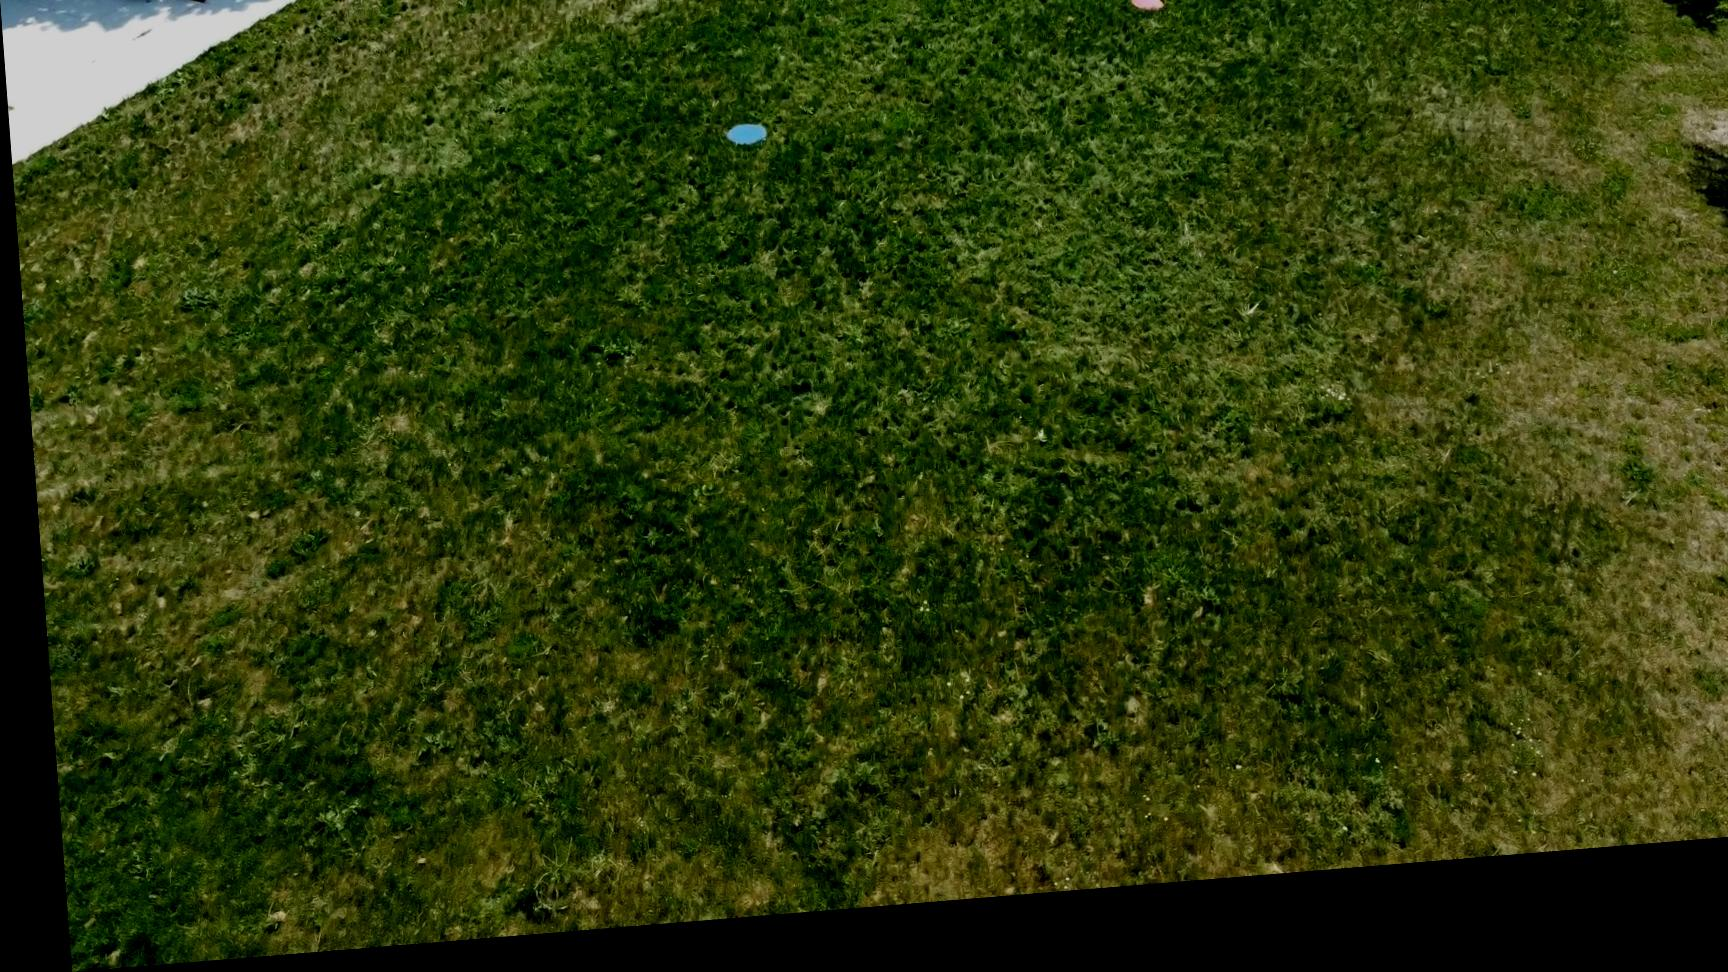Blue: (720, 131, 767, 161)
Red: (1125, 9, 1165, 34)
